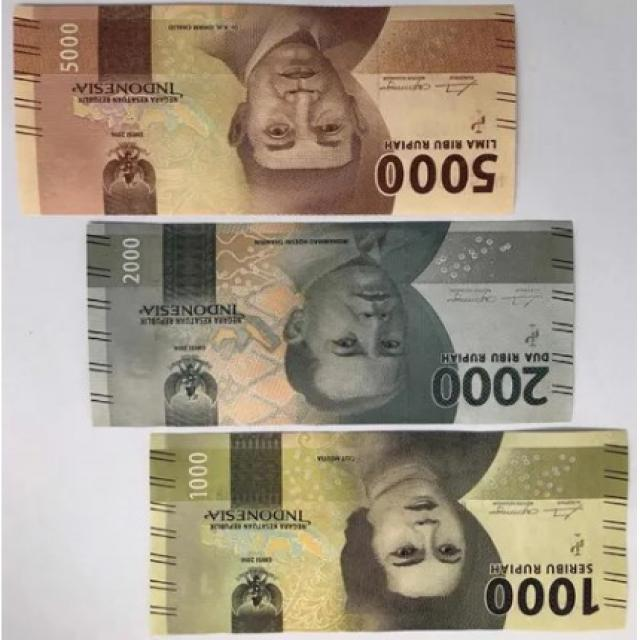1000IndonesianRupiah: (146, 426, 622, 628)
